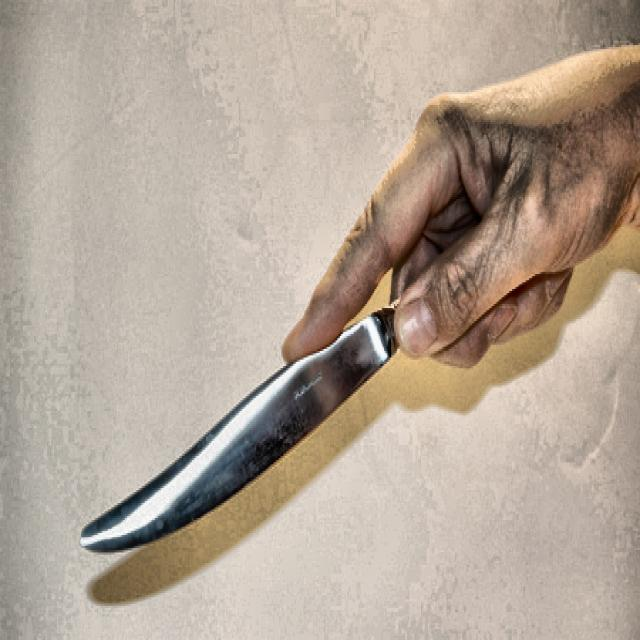knife: (83, 303, 398, 551)
